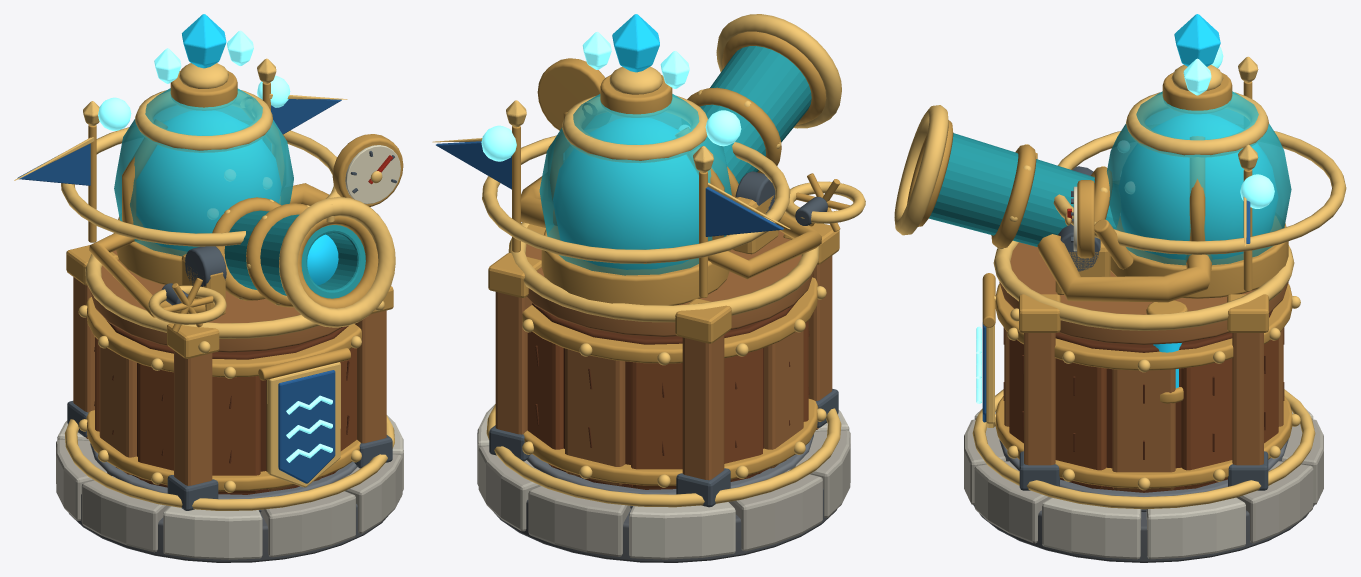
Rendered from water-cannon-lv3-action.glb.
The picture shows the model from 3 angles, left to right: view 1: azimuth 30°, elevation 25°; view 2: azimuth 150°, elevation 25°; view 3: azimuth 270°, elevation 25°; orthographic projection. The views are drawn at different scales.
Visible parts, largest first — view 1: Water surface 05, Water surface 13, Water surface 08, Water surface 02, Water surface 14, Water surface 07, Water surface 12, Water surface 15, Water surface 06, Water surface 10, Water surface 24, Water surface 23 (+12 smaller); view 2: Water surface 05, Water surface 13, Water surface 12, Water surface 14, Water surface 07, Water surface 02, Water surface 06, Water surface 08, Water surface 15, Water surface 22, Water surface 01, Water surface 23 (+10 smaller); view 3: Water surface 05, Water surface 13, Water surface 12, Water surface 08, Water surface 14, Water surface 06, Water surface 07, Water surface 15, Water surface 01, Water surface 22, Water surface 02, Water surface 24 (+9 smaller).
Part boxes in pixels (x1,y1,x2,y2): Water surface 05: (73, 250, 386, 490); Water surface 13: (114, 88, 293, 256); Water surface 08: (14, 58, 394, 510); Water surface 02: (56, 439, 402, 557); Water surface 14: (136, 14, 281, 251); Water surface 07: (66, 82, 393, 491); Water surface 12: (89, 70, 403, 332); Water surface 15: (61, 63, 382, 324); Water surface 06: (95, 337, 356, 492); Water surface 10: (17, 99, 341, 483); Water surface 24: (224, 197, 395, 327); Water surface 23: (212, 197, 378, 308); Water surface 05: (495, 230, 832, 485); Water surface 13: (539, 94, 731, 275); Water surface 12: (521, 58, 850, 305); Water surface 14: (553, 14, 698, 269); Water surface 07: (488, 126, 839, 485); Water surface 02: (478, 430, 850, 556); Water surface 06: (527, 320, 808, 487); Water surface 08: (432, 100, 841, 507); Water surface 15: (482, 66, 865, 263); Water surface 22: (700, 46, 811, 183); Water surface 01: (477, 404, 849, 559); Water surface 23: (687, 31, 826, 197); Water surface 05: (999, 242, 1288, 490); Water surface 13: (1107, 91, 1291, 265); Water surface 12: (1035, 72, 1288, 403); Water surface 08: (972, 56, 1315, 509); Water surface 14: (1119, 14, 1277, 388); Water surface 06: (1009, 339, 1278, 488); Water surface 07: (982, 81, 1292, 488); Water surface 15: (1053, 65, 1346, 254); Water surface 01: (974, 408, 1313, 559); Water surface 22: (929, 133, 1120, 246); Water surface 02: (964, 419, 1323, 543); Water surface 24: (894, 105, 1107, 249).
Size of the model in its own units: 4.41 by 5.81 by 5.
